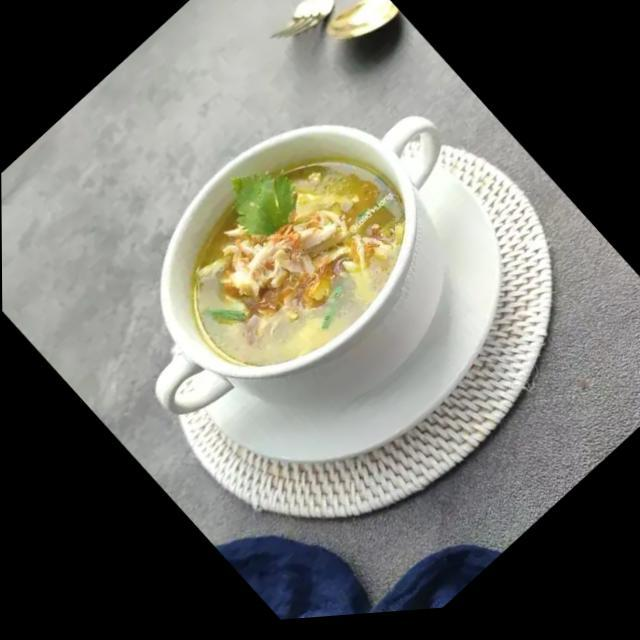Soto: (191, 159, 404, 365)
